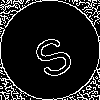S: (25, 25, 77, 82)
